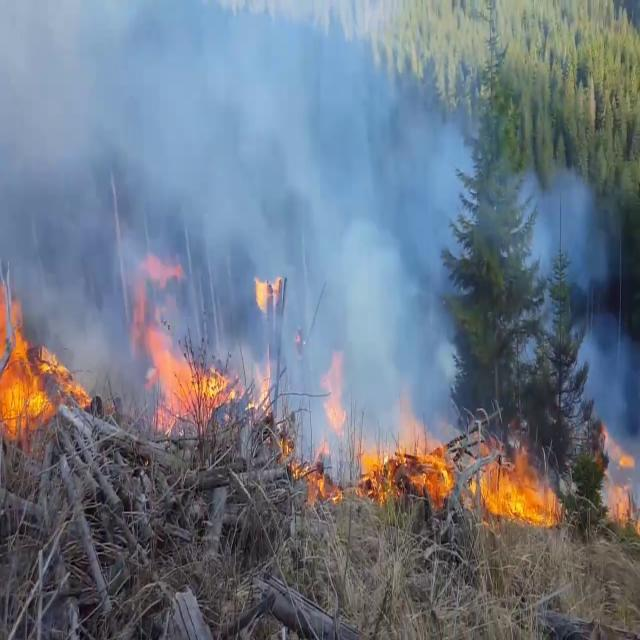Fire: (324, 380, 450, 506), (0, 259, 86, 442), (142, 314, 234, 432), (471, 437, 564, 533), (596, 426, 640, 540)
Smoke: (1, 1, 470, 479), (528, 166, 636, 449)
